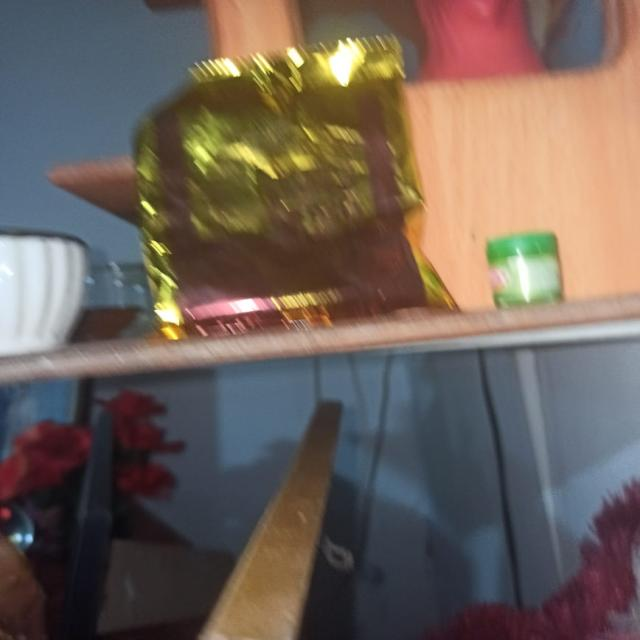Harischandra Coffee: (106, 46, 445, 330)
